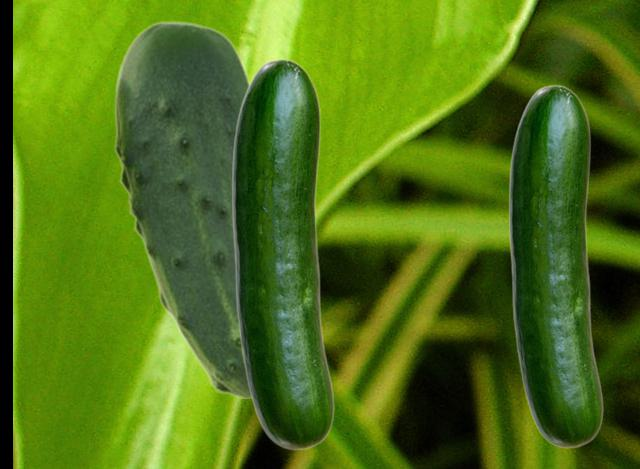cucumber: (114, 20, 251, 397), (231, 58, 333, 449), (508, 84, 602, 447)
